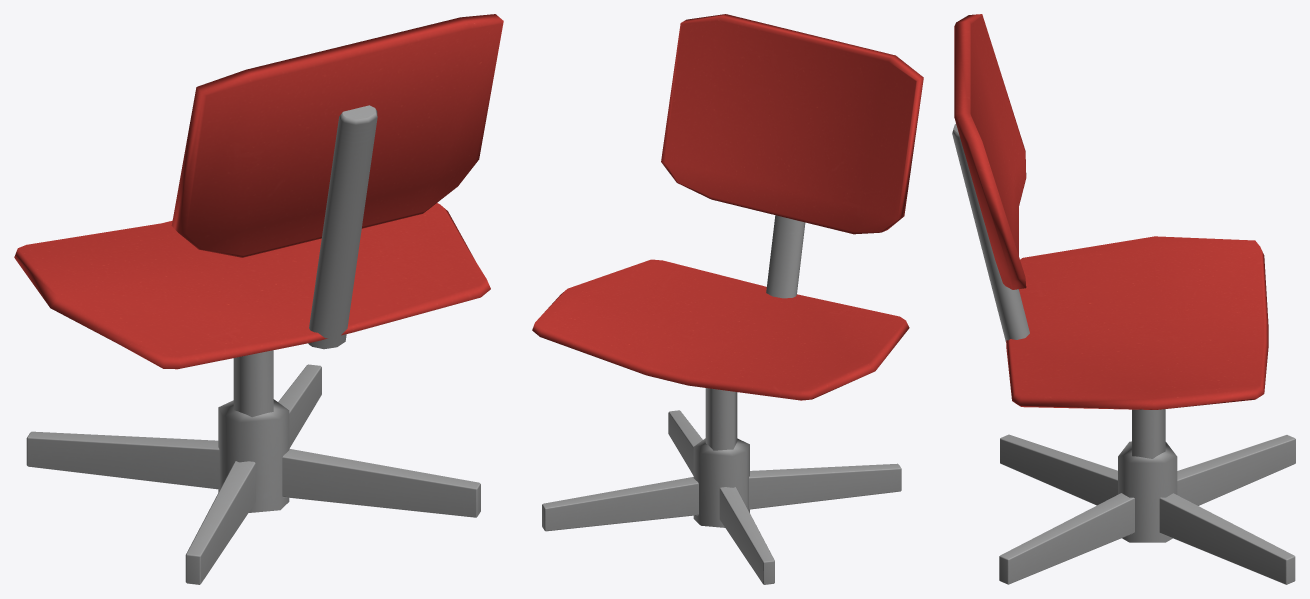
The model's file is Swivel Chair N.fbx.
3 renders of one model, left to right at view 1: azimuth 30°, elevation 25°; view 2: azimuth 150°, elevation 25°; view 3: azimuth 270°, elevation 25°, orthographic. The views are drawn at different scales.
Parts seen in each view (by area): view 1: Swivel_Chair1; view 2: Swivel_Chair1; view 3: Swivel_Chair1.
Boxes of the visible parts, x1,y1,x2,y2 form: Swivel_Chair1: (14, 14, 503, 584); Swivel_Chair1: (532, 14, 923, 584); Swivel_Chair1: (952, 14, 1295, 584).
Size of the model in its own units: 88.83 by 114 by 76.27.
1 material, 1 textured.
